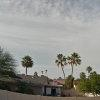Palm tree: (51, 44, 85, 76)
